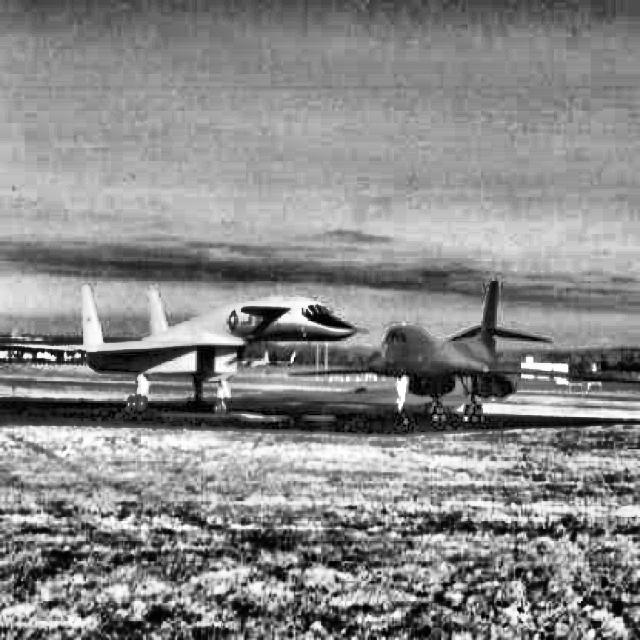B1: (287, 278, 639, 430)
XB70: (1, 285, 372, 413)
